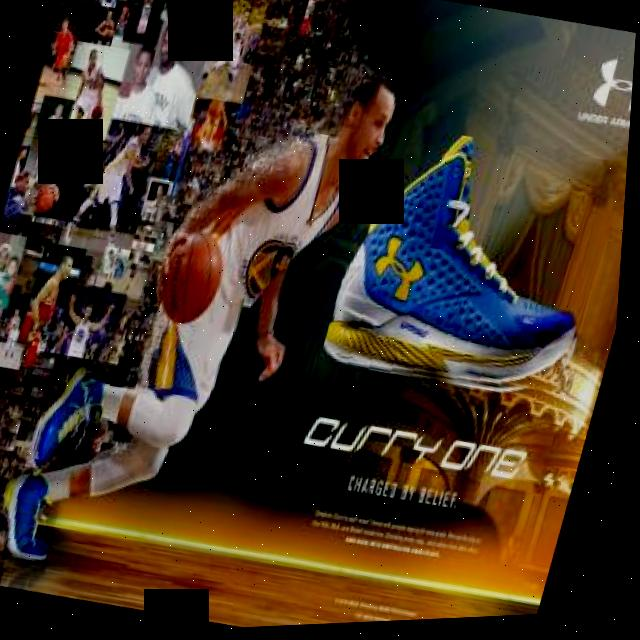shoe: (321, 117, 631, 419), (34, 355, 120, 470), (0, 466, 75, 563)
